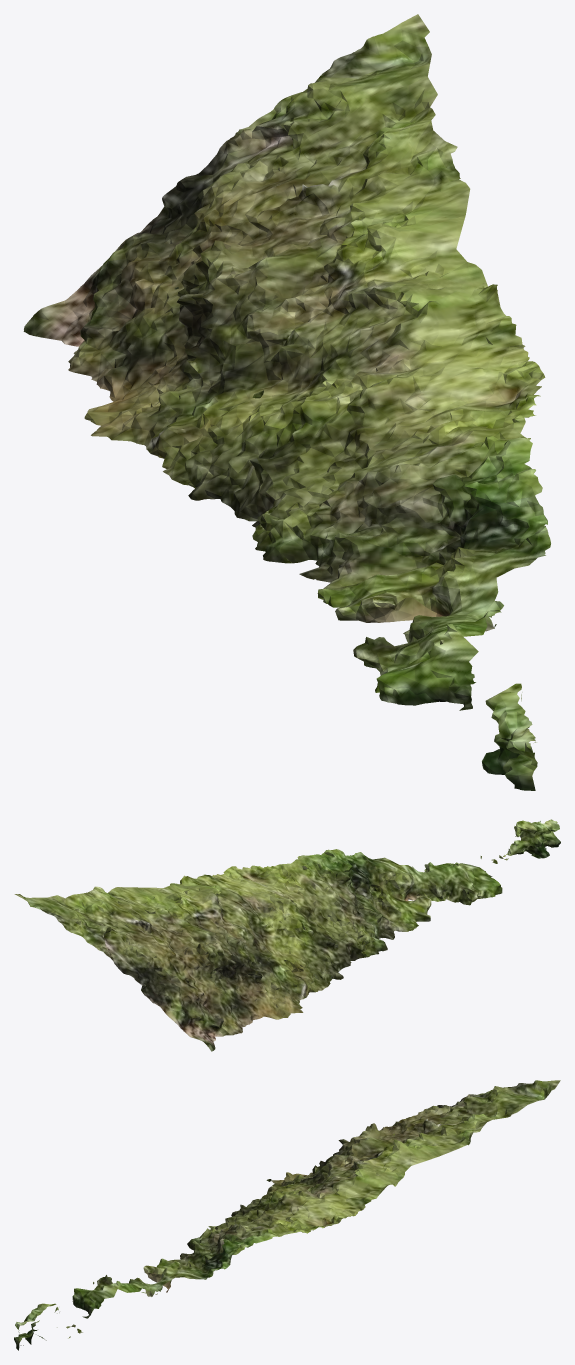
3 views of the same model, one above another, from view 1: azimuth 30°, elevation 25°; view 2: azimuth 150°, elevation 25°; view 3: azimuth 330°, elevation 25° (orthographic). The views are drawn at different scales.
Size of the model in its own units: 3.82 by 1.57 by 7.82.
Materials: 1 (1 with a texture image).
